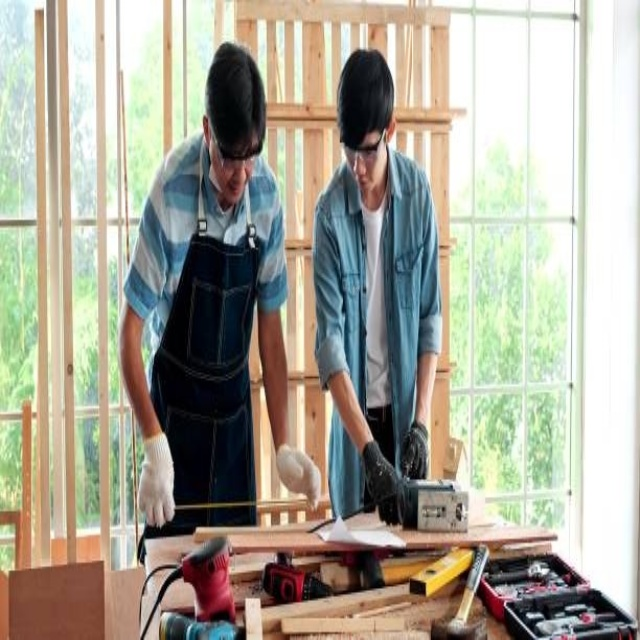Gafas: (209, 115, 262, 168), (343, 127, 387, 164)
Guantes: (137, 432, 175, 526), (362, 440, 405, 523), (277, 444, 323, 511), (400, 422, 429, 480)
Sin_mascara: (351, 168, 376, 200), (226, 172, 248, 206)
